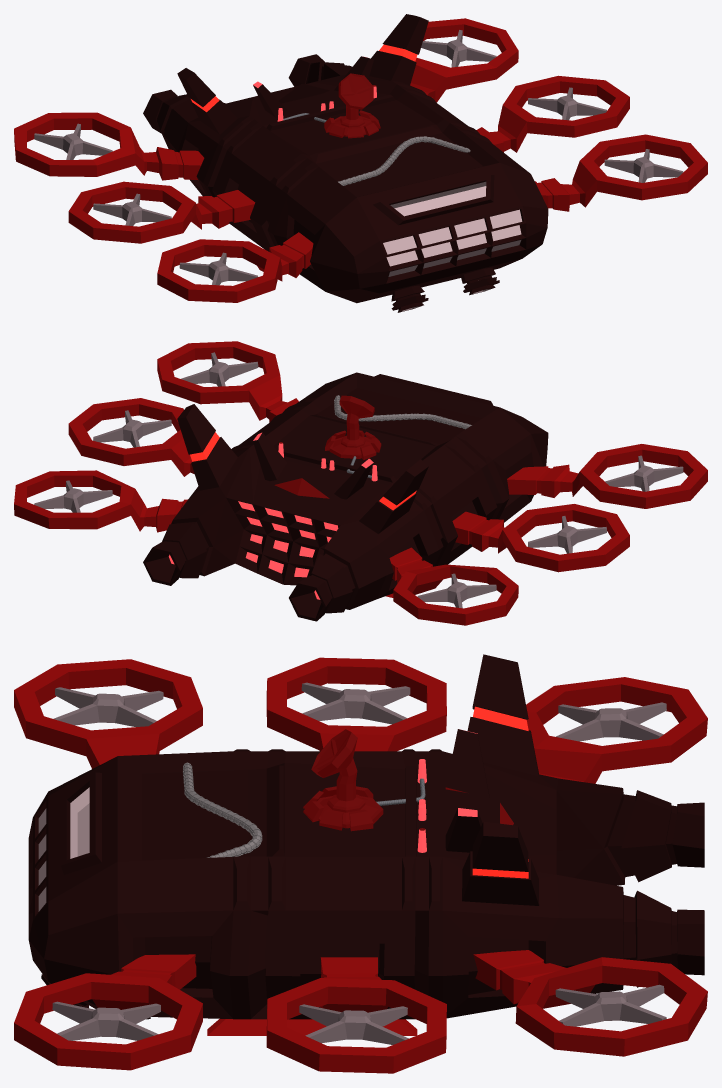
Rendered from Drone Unity 2.fbx.
3 views of the same model, one above another, from view 1: azimuth 30°, elevation 25°; view 2: azimuth 150°, elevation 25°; view 3: azimuth 270°, elevation 25° (orthographic). The views are drawn at different scales.
Visible parts, largest first — view 1: Drone, Cabel 2; view 2: Drone, Cabel 2; view 3: Drone, Cabel 2.
Boxes of the visible parts, x1,y1,x2,y2 form: Drone: [14, 14, 707, 312]; Cabel 2: [338, 136, 470, 185]; Drone: [14, 341, 707, 625]; Cabel 2: [334, 395, 471, 429]; Drone: [14, 654, 707, 1073]; Cabel 2: [183, 762, 262, 857].
Size of the model in its own units: 10.21 by 3.1 by 7.55.
